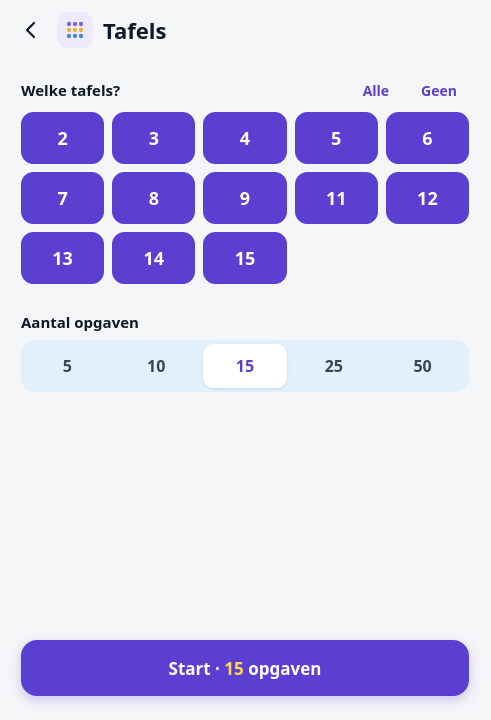
it: SetupScreen › clears and restores the choice with Geen and Alle
Click the button "Geen" at [439, 90], box [409,68,469,112]
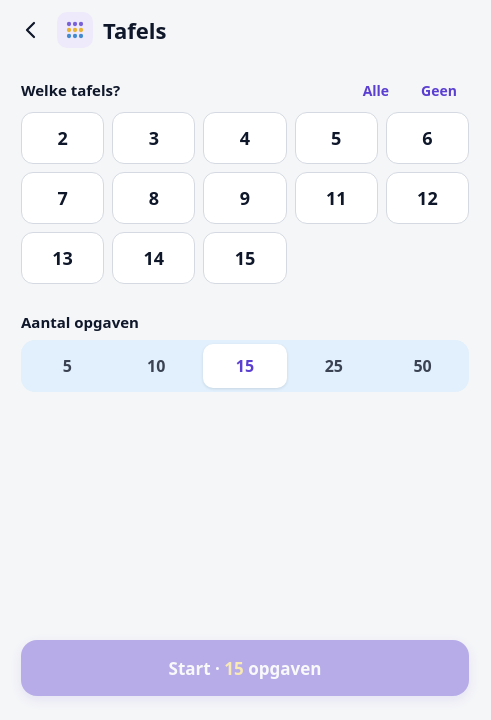
Result: the button "Start · 15 opgaven" is disabled at [21,640,469,696]
Click the button "Alle" at [376, 90], box [351,68,401,112]
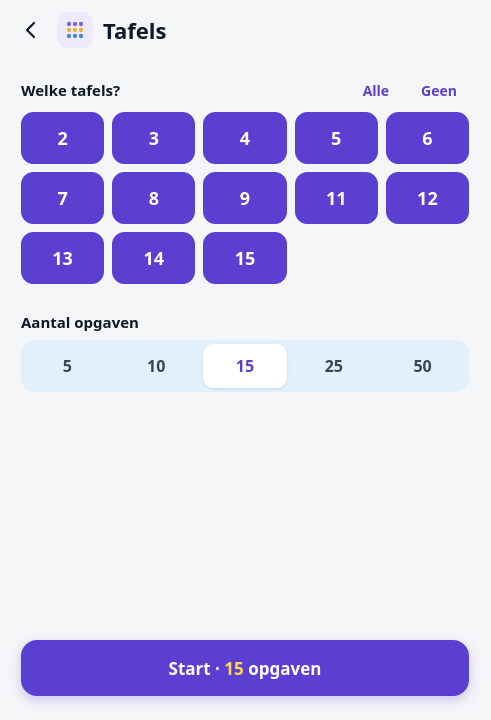
Result: the button "Start · 15 opgaven" is enabled at [21,640,469,696]
